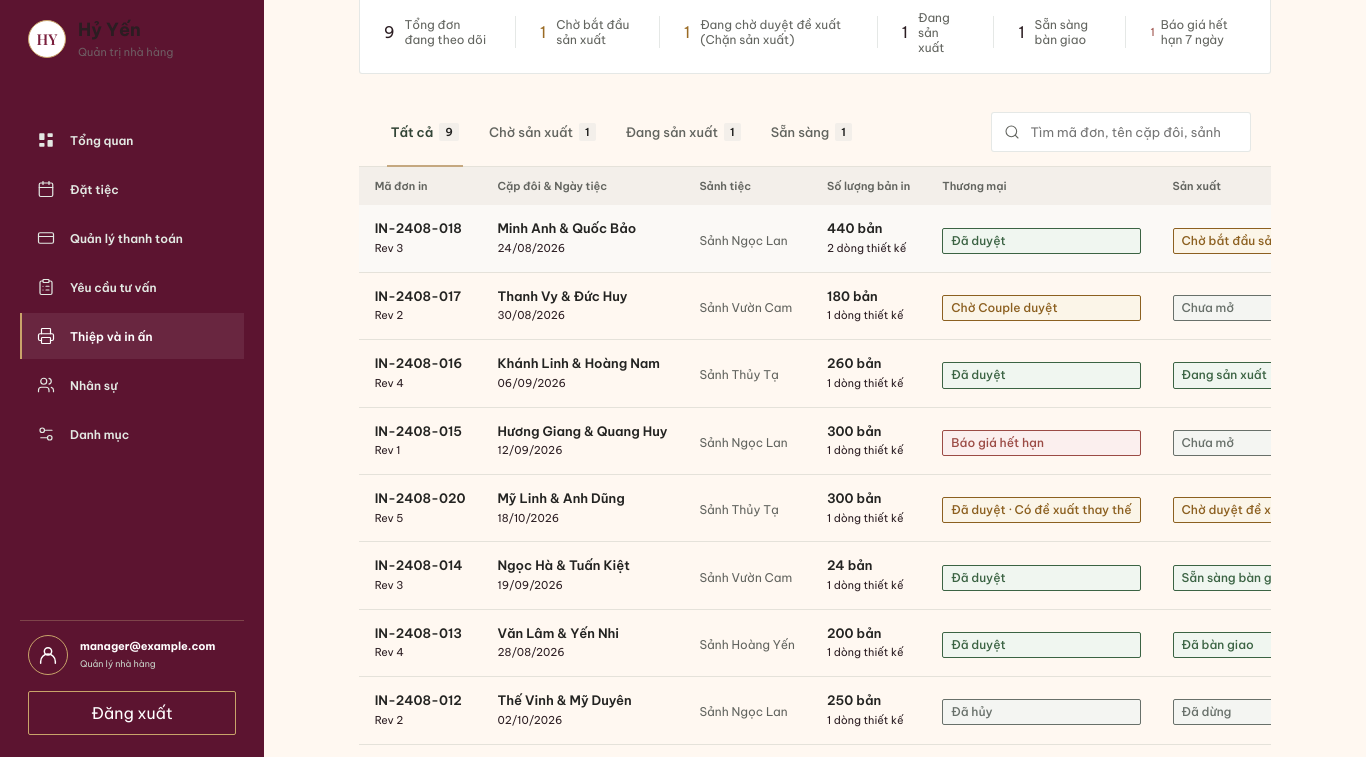
it: Management Print Orders Workspace (M09–M14) › allows Manager to mark IN_PRODUCTION order as READY_FOR_HANDOVER
This screenshot has width=1366, height=757.
(page scrolled)
Click the button with aria-label "Chọn đơn in IN-2408-016": (862, 374) [359,340,1365,407]
(page scrolled)
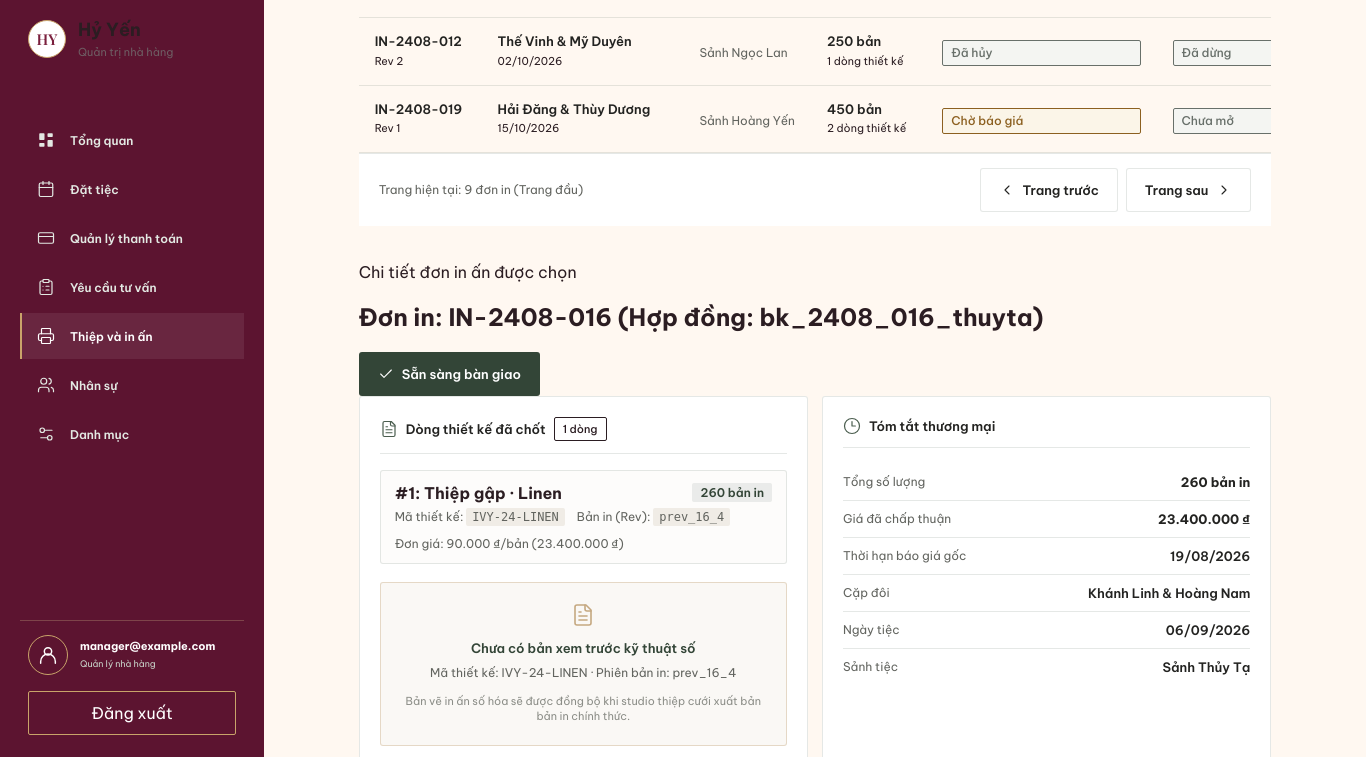
Click the button "Sẵn sàng bàn giao": (449, 374) [359,352,540,396]
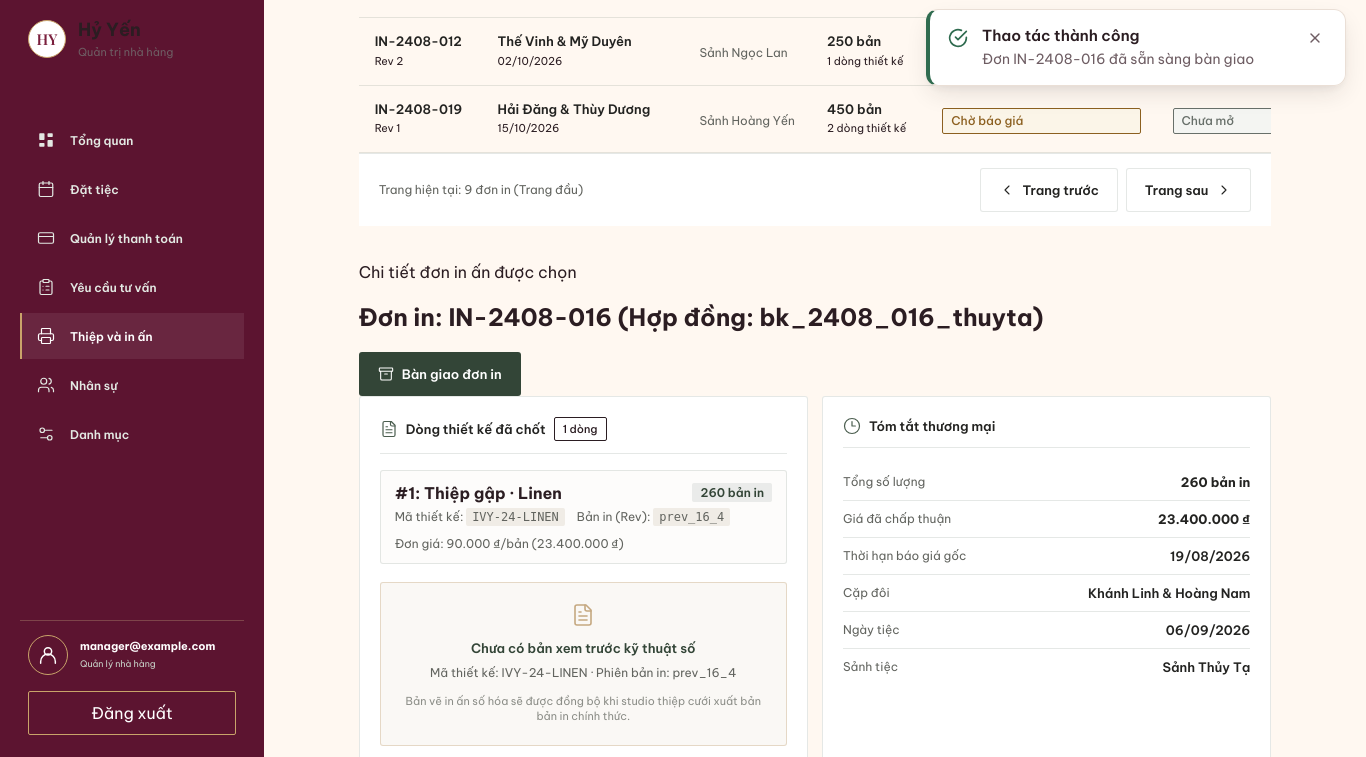
Result: the text "Đơn IN-2408-016 đã sẵn sàng bàn giao" is shown at [982,50,1289,69]
